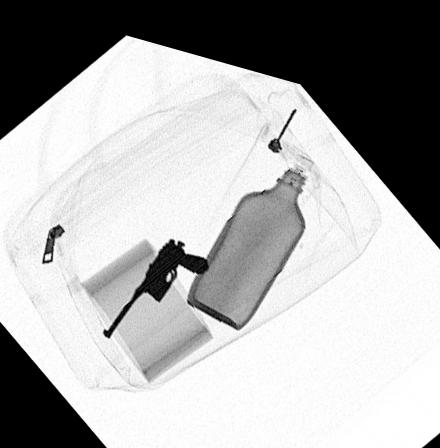Gun: (100, 225, 207, 331)
